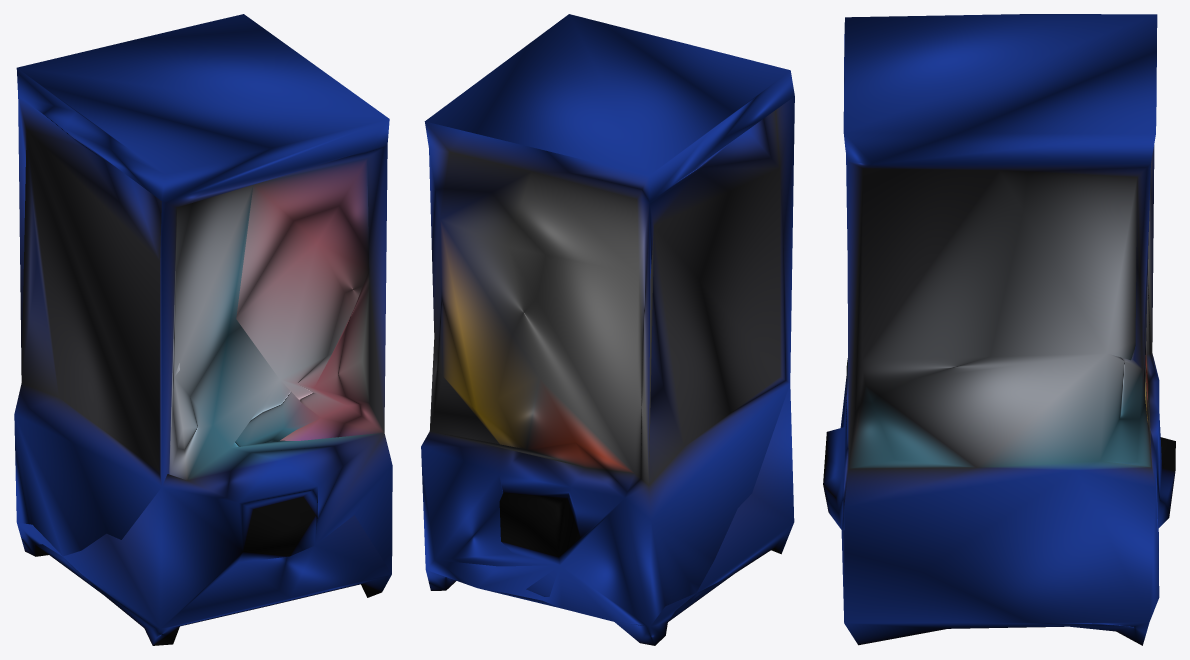
The model's file is gen3d-claw-machine-lod1.glb.
3 renders of one model, left to right at view 1: azimuth 30°, elevation 25°; view 2: azimuth 150°, elevation 25°; view 3: azimuth 270°, elevation 25°, orthographic. The views are drawn at different scales.
Parts seen in each view (by area): view 1: part_0; view 2: part_0; view 3: part_0.
Boxes of the visible parts, <box> form: part_0: <box>14,14,392,645</box>; part_0: <box>421,14,794,645</box>; part_0: <box>823,14,1175,645</box>.
Size of the model in its own units: 0.5037 by 0.9948 by 0.6172.
